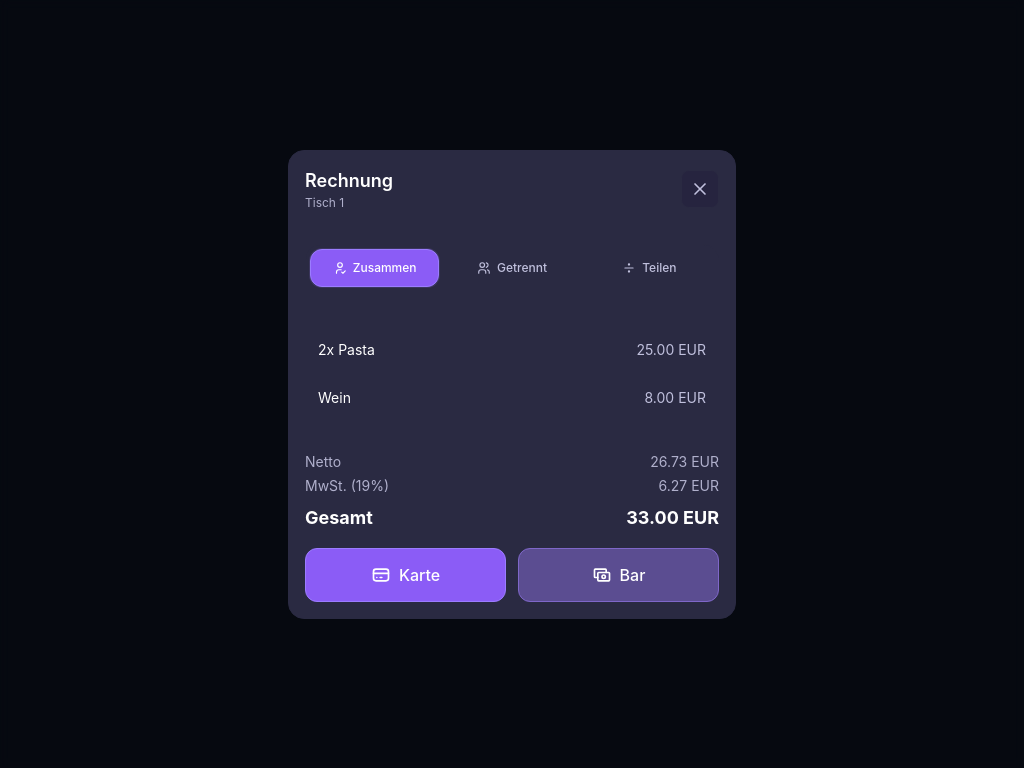
Test: Scenario 1 — Combined Billing (full order → card payment → close) › clicking "Karte" advances to the Trinkgeld screen
The image size is (1024, 768).
Click the button "Karte": (406, 574) [305, 548, 506, 602]
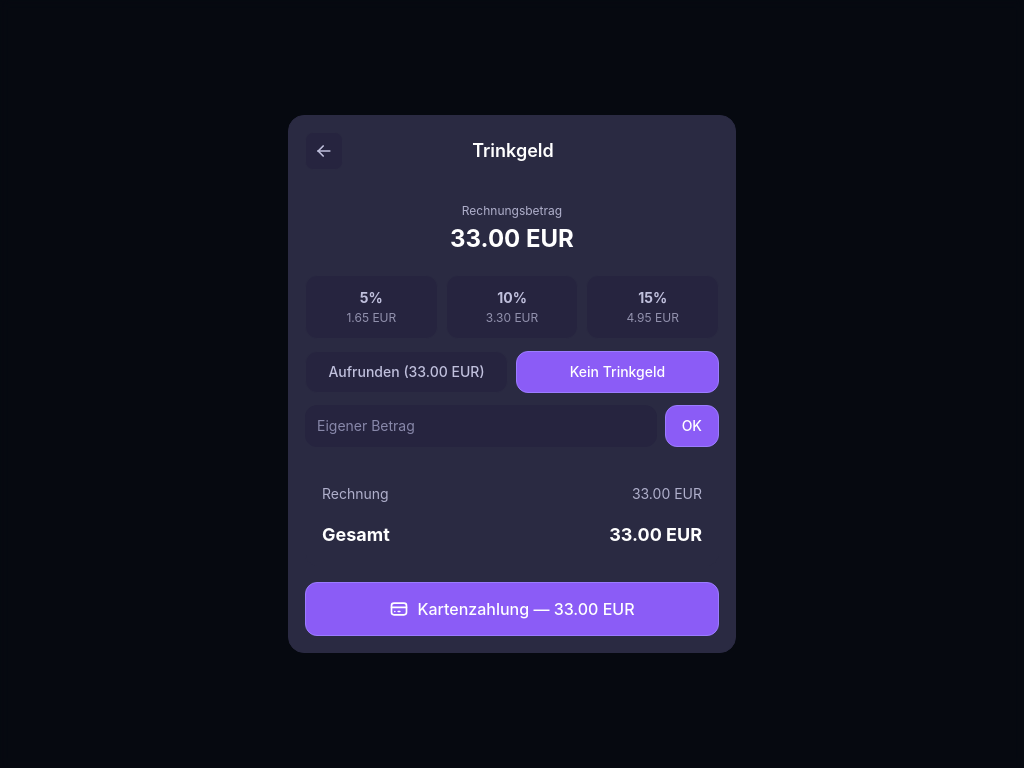
Result: the heading "Trinkgeld" is shown at [472, 137, 554, 165]
Result: the text "33.00 EUR" below "Rechnungsbetrag" is shown at [450, 224, 574, 253]
